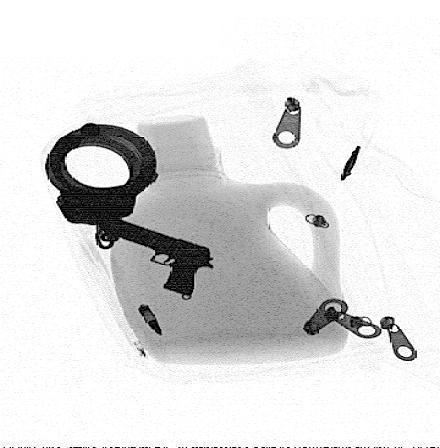Bullet: (138, 305, 164, 337)
Gun: (94, 215, 216, 298)
HandCuffs: (45, 122, 162, 252)
